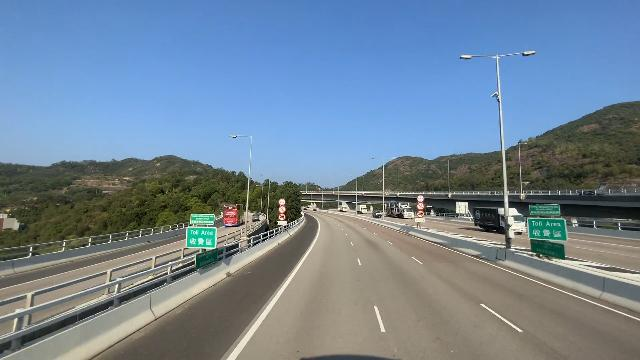bus: (222, 201, 246, 228)
car: (373, 210, 382, 218), (582, 190, 595, 195), (595, 190, 605, 195), (313, 206, 317, 211), (303, 206, 307, 210)
truck: (467, 206, 526, 237), (383, 200, 418, 219), (355, 204, 368, 214)
van: (252, 213, 260, 222)
